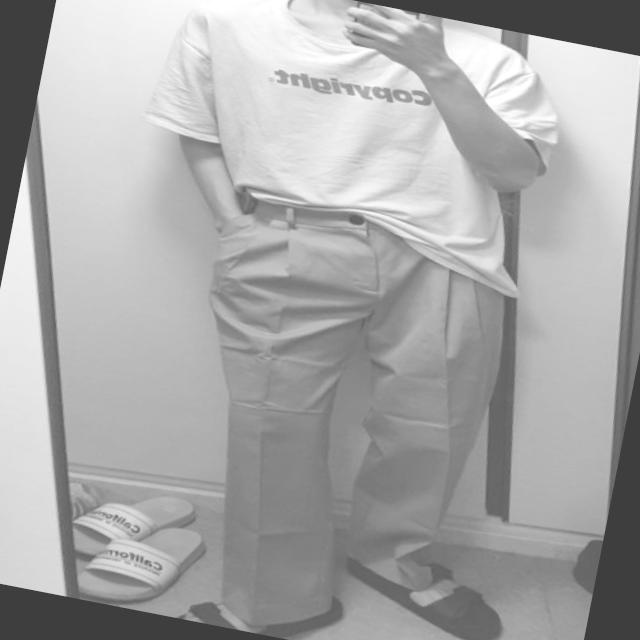cottonpants: (151, 184, 529, 640)
shortsleeve: (125, 0, 574, 288)
